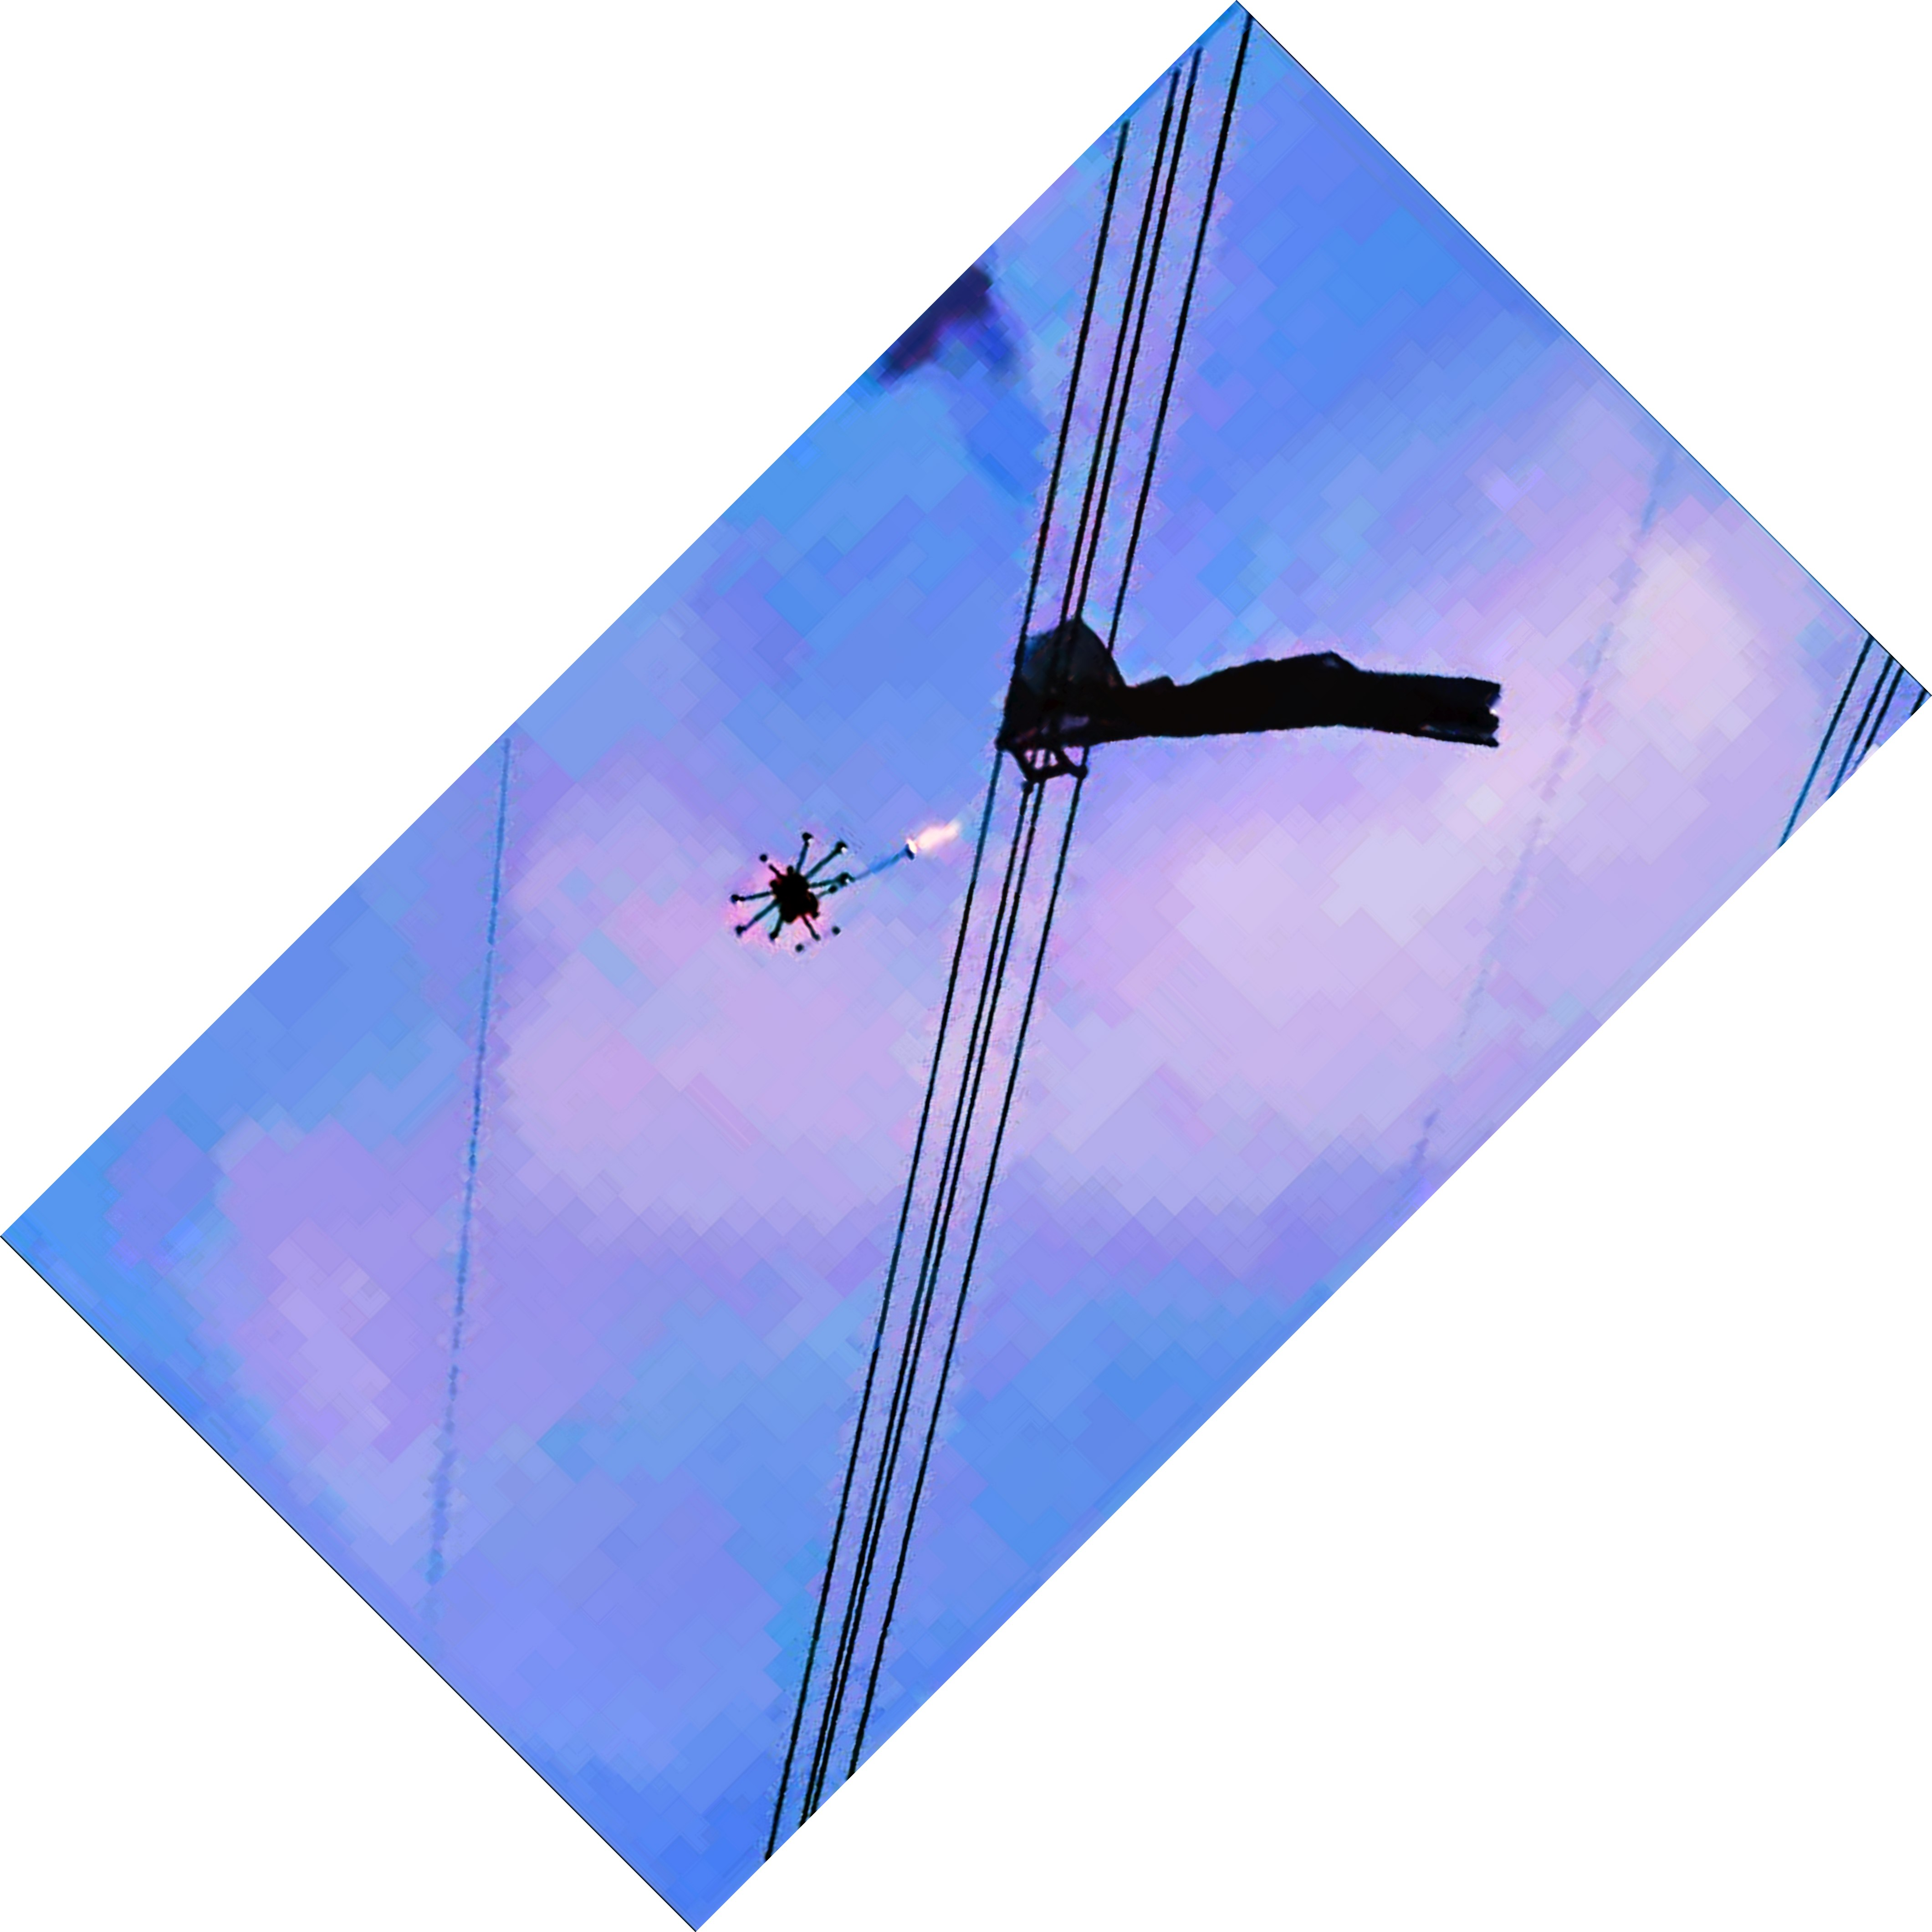wire foreign body: (954, 587, 1543, 787)
